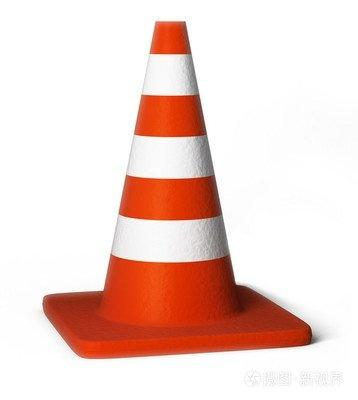cone_barrel: (84, 25, 254, 335)
